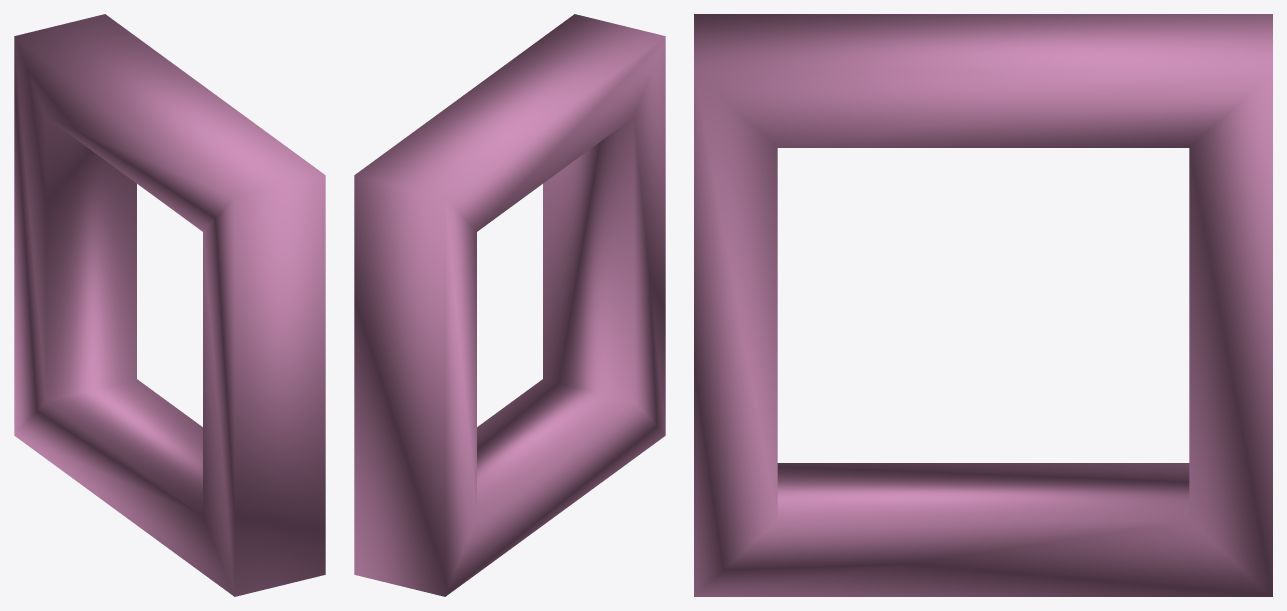
File: ps_square.glb
The picture shows the model from 3 angles, left to right: view 1: azimuth 30°, elevation 25°; view 2: azimuth 150°, elevation 25°; view 3: azimuth 270°, elevation 25°; orthographic projection. The views are drawn at different scales.
Visible parts, largest first — view 1: Cube; view 2: Cube; view 3: Cube.
Part boxes in pixels (box(x1,y1,x2,y2)): Cube: box(14, 14, 325, 596); Cube: box(354, 14, 665, 596); Cube: box(694, 14, 1272, 596).
Bounding box in the file's own units: 0.4767 × 2 × 2.
